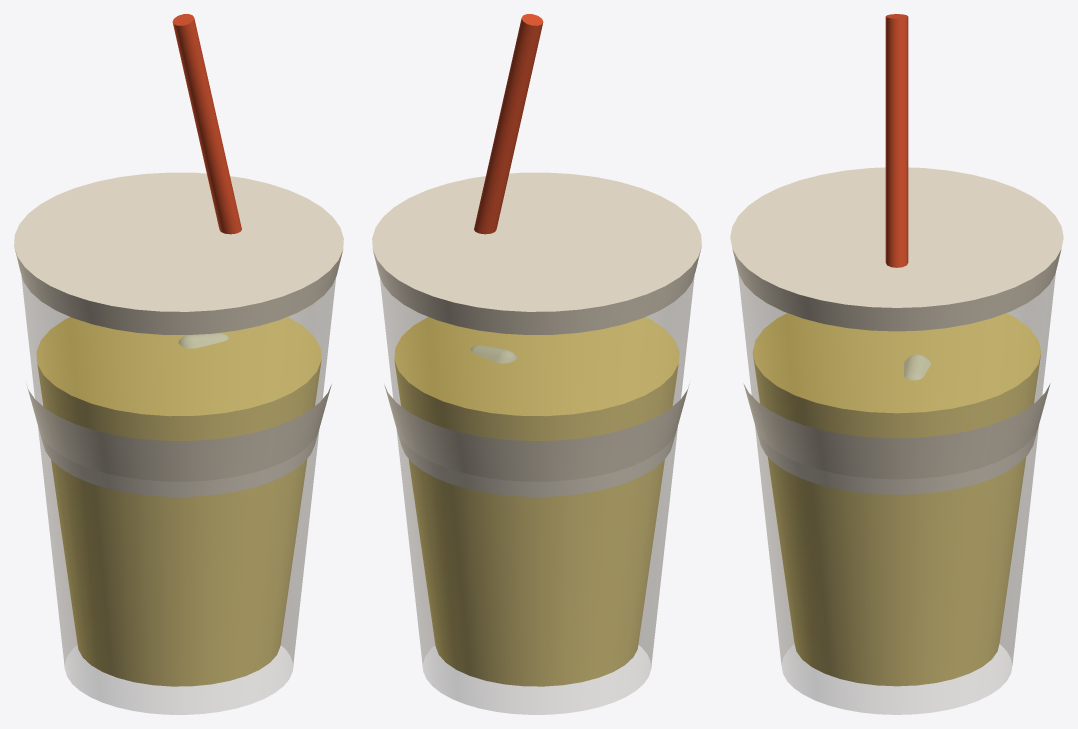
File: drink.glb
3 views of the same model, side by side, from view 1: azimuth 30°, elevation 25°; view 2: azimuth 150°, elevation 25°; view 3: azimuth 270°, elevation 25° (orthographic).
Visible parts, largest first — view 1: Cup, Liquid, drink; view 2: Cup, Liquid, drink; view 3: Cup, Liquid, drink.
Boxes of the visible parts, x1=… form: Cup: x1=21, y1=275, x2=335, y2=714; Liquid: x1=36, y1=317, x2=321, y2=686; drink: x1=14, y1=14, x2=343, y2=496; Cup: x1=380, y1=275, x2=694, y2=714; Liquid: x1=394, y1=317, x2=679, y2=686; drink: x1=372, y1=14, x2=701, y2=496; Cup: x1=738, y1=274, x2=1055, y2=714; Liquid: x1=752, y1=313, x2=1041, y2=686; drink: x1=730, y1=14, x2=1063, y2=494.
Size of the model in its own units: 1.04 by 2.25 by 1.04.
